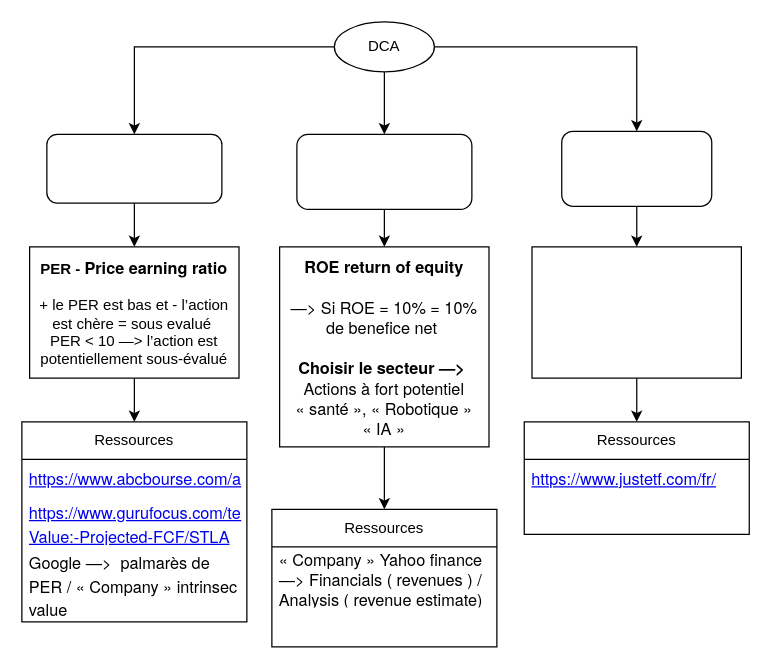
Image size: 771x669. Some labels were removed from this diagram. The shapes that lost their labels are listed below. From the top down, each one's centre as x and y in pixels, then its label:
the point at 134,168: Strategie 1 - 35% Investir sur des actions sous évaluées
the point at 384,171: Stratégie 2 - 15% Investir sur des actions à fort potentiel
the point at 636,168: Strategie 3 - 50% Investir sur des ETFs
